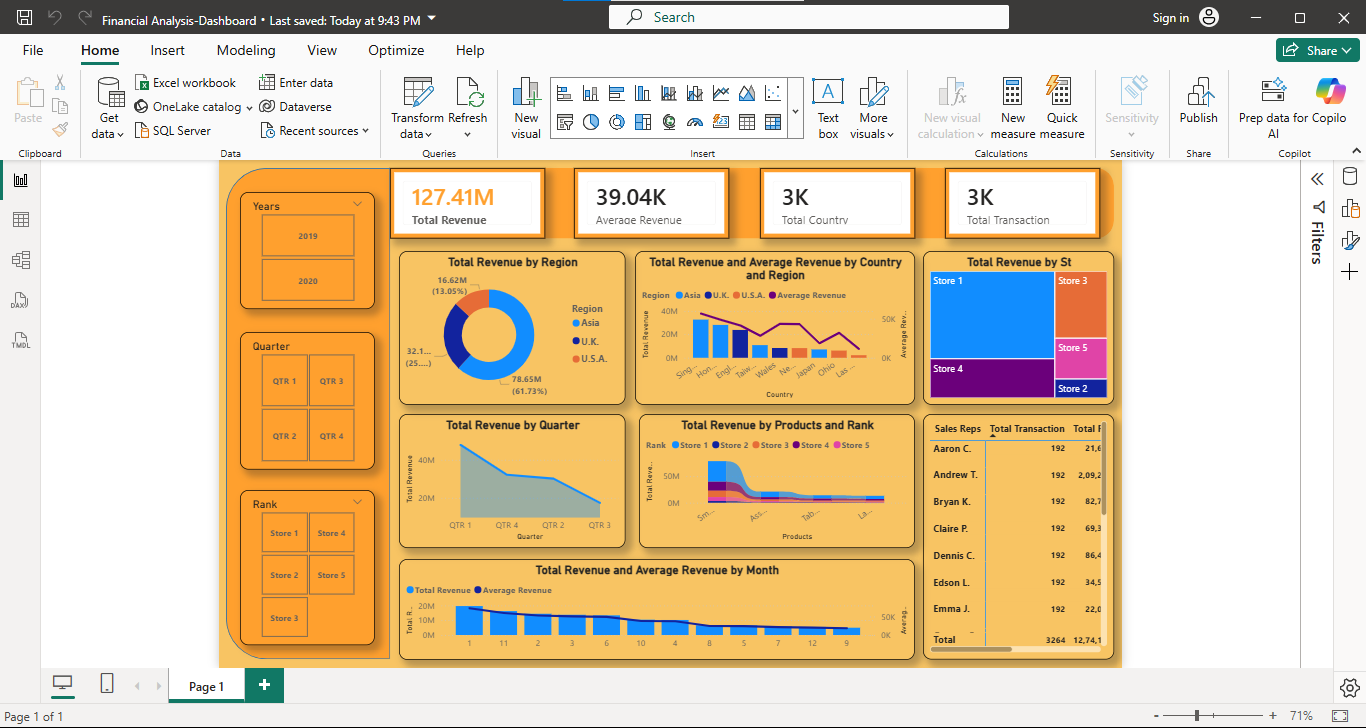

The dashboard page shown, as its layout file describes it:
{"tool":"powerbi","page":{"name":"Page 1","canvas":[1280,720],"ordinal":0},"visuals":[{"type":"shape","box":[10,11.4,232.6,696.4],"z":0},{"type":"shape","box":[242.6,11.4,1026,99.9],"z":1000},{"type":"cardVisual","fields":{"Data":["Measures (2).Total Revenue"]},"box":[242.6,11.4,219.8,99.9],"z":2000},{"type":"cardVisual","fields":{"Data":["Measures (2).Average Revenue"]},"box":[503.7,11.4,219.8,99.9],"z":3000},{"type":"cardVisual","fields":{"Data":["Measures (2).Total Country"]},"box":[766.3,11.4,219.8,99.9],"z":4000},{"type":"cardVisual","fields":{"Data":["Measures (2).Total Transaction"]},"box":[1028.9,11.4,219.8,99.9],"z":5000},{"type":"donutChart","fields":{"Category":["Sheet1.Region"],"Y":["Measures (2).Total Revenue"]},"box":[255.4,128.4,321.1,218.3],"z":6000},{"type":"lineStackedColumnComboChart","fields":{"Category":["Sheet1.Country"],"Series":["Sheet1.Region"],"Y":["Measures (2).Total Revenue"],"Y2":["Measures (2).Average Revenue"]},"box":[589.3,128.4,396.7,218.3],"z":7000},{"type":"treemap","title":"Total Revenue by St","fields":{"Group":["Sheet1.Rank"],"Values":["Measures (2).Total Revenue"]},"box":[997.5,128.4,271.1,218.3],"z":8000},{"type":"areaChart","fields":{"Category":["Sheet1.Quarter"],"Y":["Measures (2).Total Revenue"]},"box":[255.4,359.6,321.1,189.8],"z":9000},{"type":"ribbonChart","fields":{"Category":["Sheet1.Products"],"Series":["Sheet1.Rank"],"Y":["Measures (2).Total Revenue"]},"box":[595.1,359.6,391,189.8],"z":10000},{"type":"pivotTable","fields":{"Rows":["Sheet1.Sales Reps"],"Values":["Measures (2).Total Transaction","Measures (2).Total Revenue","Measures (2).Average Revenue"]},"box":[997.5,359.6,271.1,348.2],"z":11000},{"type":"lineStackedColumnComboChart","fields":{"Category":["Sheet1.Month"],"Y":["Measures (2).Total Revenue"],"Y2":["Measures (2).Average Revenue"]},"box":[255.4,565.1,730.6,142.7],"z":12000},{"type":"slicer","fields":{"Values":["Sheet1.Years"]},"box":[30.4,44.7,191.3,166.3],"z":13000},{"type":"slicer","fields":{"Values":["Sheet1.Quarter"]},"box":[30.4,243.1,191.3,194.9],"z":13001},{"type":"slicer","fields":{"Values":["Sheet1.Rank"]},"box":[30.4,468.4,191.3,219.9],"z":13002}]}

Visuals, with their boxes on the page's 1280x720 design canvas (x1, y1, x2, y2). These are canvas units, not pixel positions in the 1366x728 screenshot, which may show the page scaled, cropped or inside an application window:
shape: select_region(10, 11, 243, 708)
shape: select_region(243, 11, 1269, 111)
cardVisual - Measures (2).Total Revenue: select_region(243, 11, 462, 111)
cardVisual - Measures (2).Average Revenue: select_region(504, 11, 724, 111)
cardVisual - Measures (2).Total Country: select_region(766, 11, 986, 111)
cardVisual - Measures (2).Total Transaction: select_region(1029, 11, 1249, 111)
donutChart - Sheet1.Region x Measures (2).Total Revenue: select_region(255, 128, 576, 347)
lineStackedColumnComboChart - Sheet1.Country x Sheet1.Region: select_region(589, 128, 986, 347)
"Total Revenue by St" treemap: select_region(998, 128, 1269, 347)
areaChart - Sheet1.Quarter x Measures (2).Total Revenue: select_region(255, 360, 576, 549)
ribbonChart - Sheet1.Products x Sheet1.Rank: select_region(595, 360, 986, 549)
pivotTable - Sheet1.Sales Reps x Measures (2).Total Transaction: select_region(998, 360, 1269, 708)
lineStackedColumnComboChart - Sheet1.Month x Measures (2).Total Revenue: select_region(255, 565, 986, 708)
slicer - Sheet1.Years: select_region(30, 45, 222, 211)
slicer - Sheet1.Quarter: select_region(30, 243, 222, 438)
slicer - Sheet1.Rank: select_region(30, 468, 222, 688)
